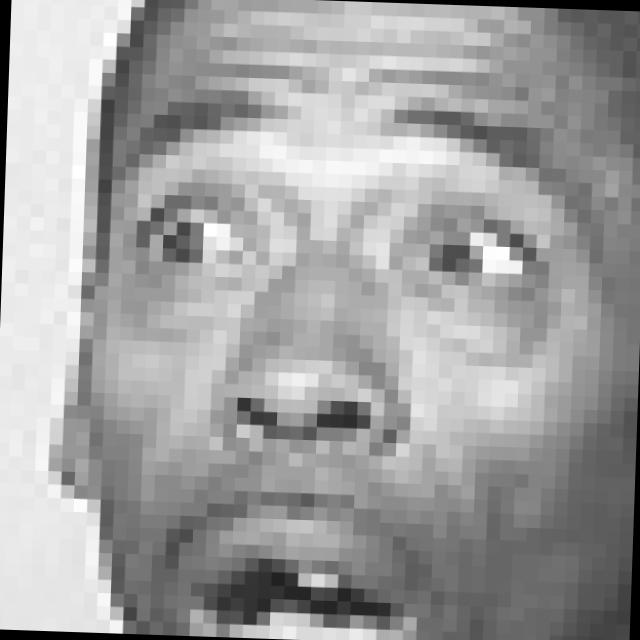fear: (97, 55, 616, 640)
